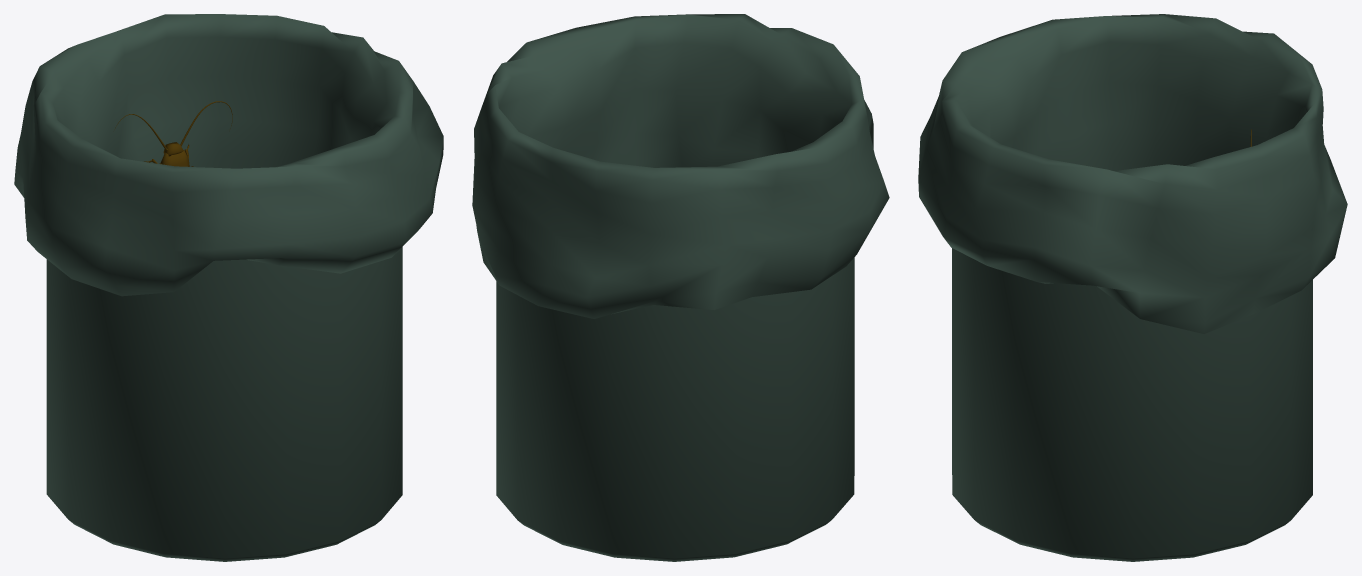
File: trash_can.glb
3 renders of one model, left to right at view 1: azimuth 30°, elevation 25°; view 2: azimuth 150°, elevation 25°; view 3: azimuth 270°, elevation 25°, orthographic.
Parts seen in each view (by area): view 1: transform1 (×2); view 2: transform1; view 3: transform1.
Part boxes in pixels (bbox=[...]): transform1 (×2): bbox=[14, 14, 443, 561]; transform1: bbox=[472, 14, 889, 561]; transform1: bbox=[918, 14, 1347, 561].
Bounding box in the file's own units: 24.05 × 24 × 23.31.
